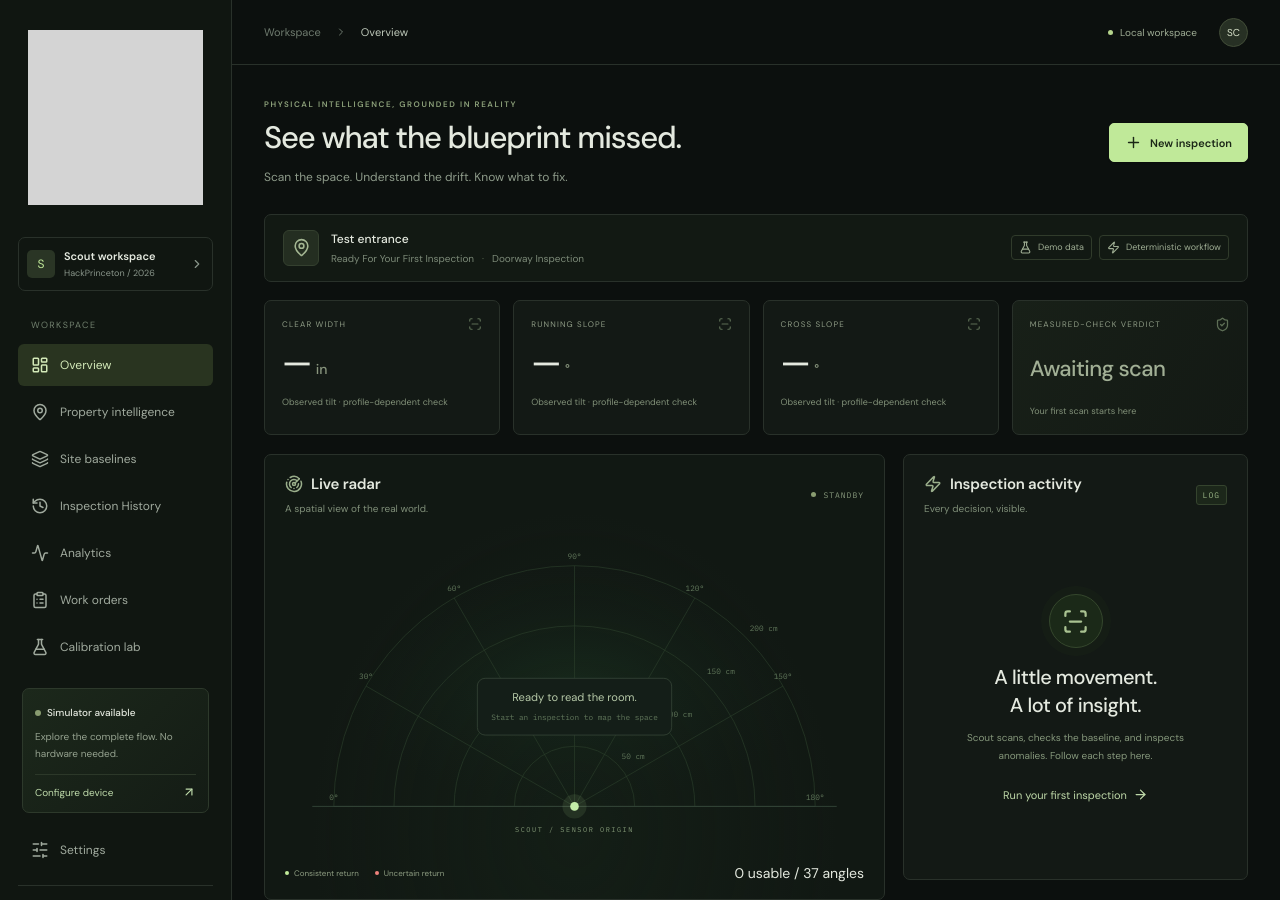
Test case: Inspection workspace › renders an honest empty dashboard and opens a configured scan
This screenshot has width=1280, height=900.
Expected: the heading "See what the blueprint missed." is shown, [264,119,681,158]
Expected: the text "Awaiting scan" is shown, [1030,354,1165,383]
Click the button "New inspection" at (1179, 143), box [1109,124,1248,162]
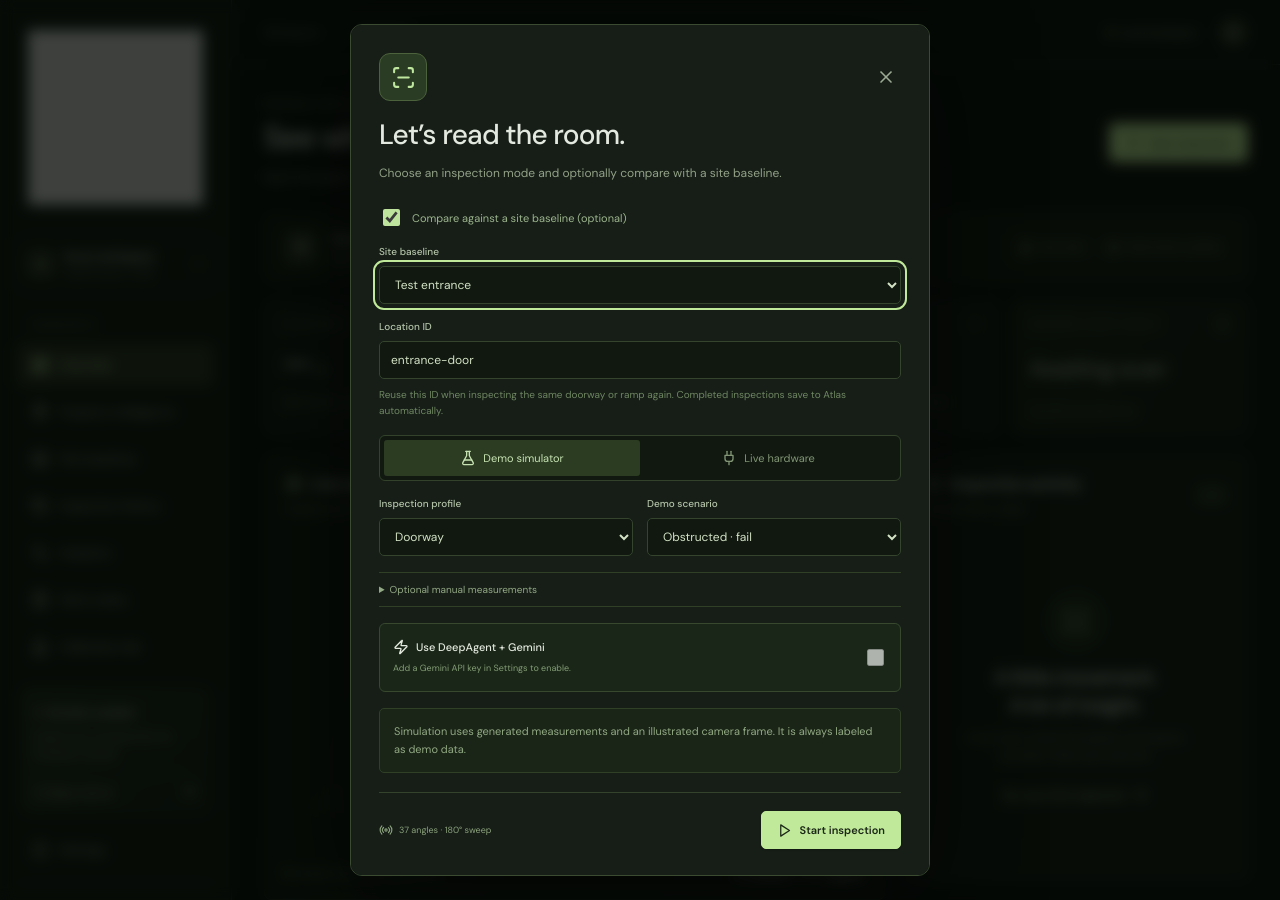
Expected: the checkbox labelled "Use DeepAgent" is disabled, [867,649,884,666]
Select "Ramp" in the dropdown labelled "Inspection profile" at (506, 537), box [379,518,633,556]
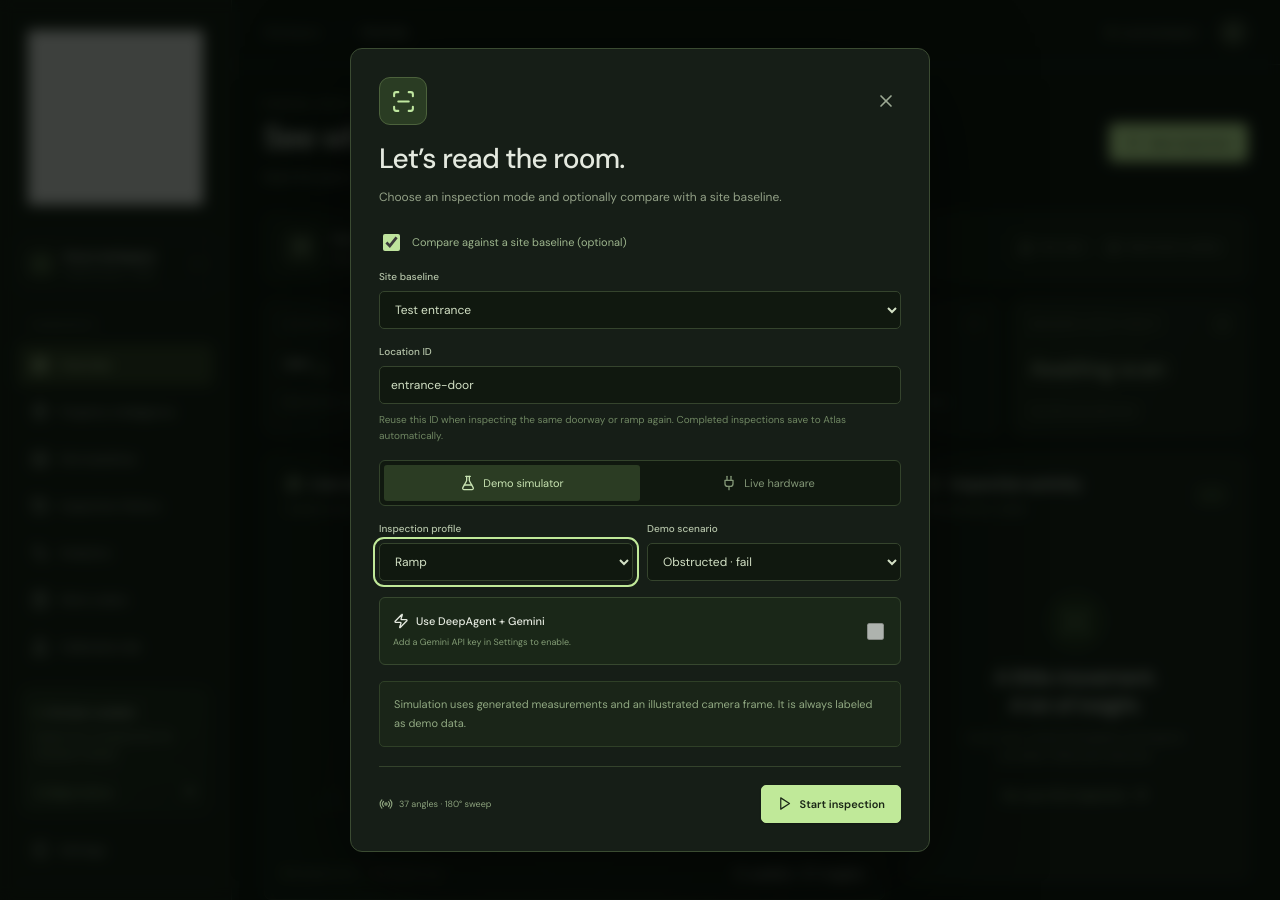
Click the button "Start inspection" at (831, 804), box [761,785,901,823]
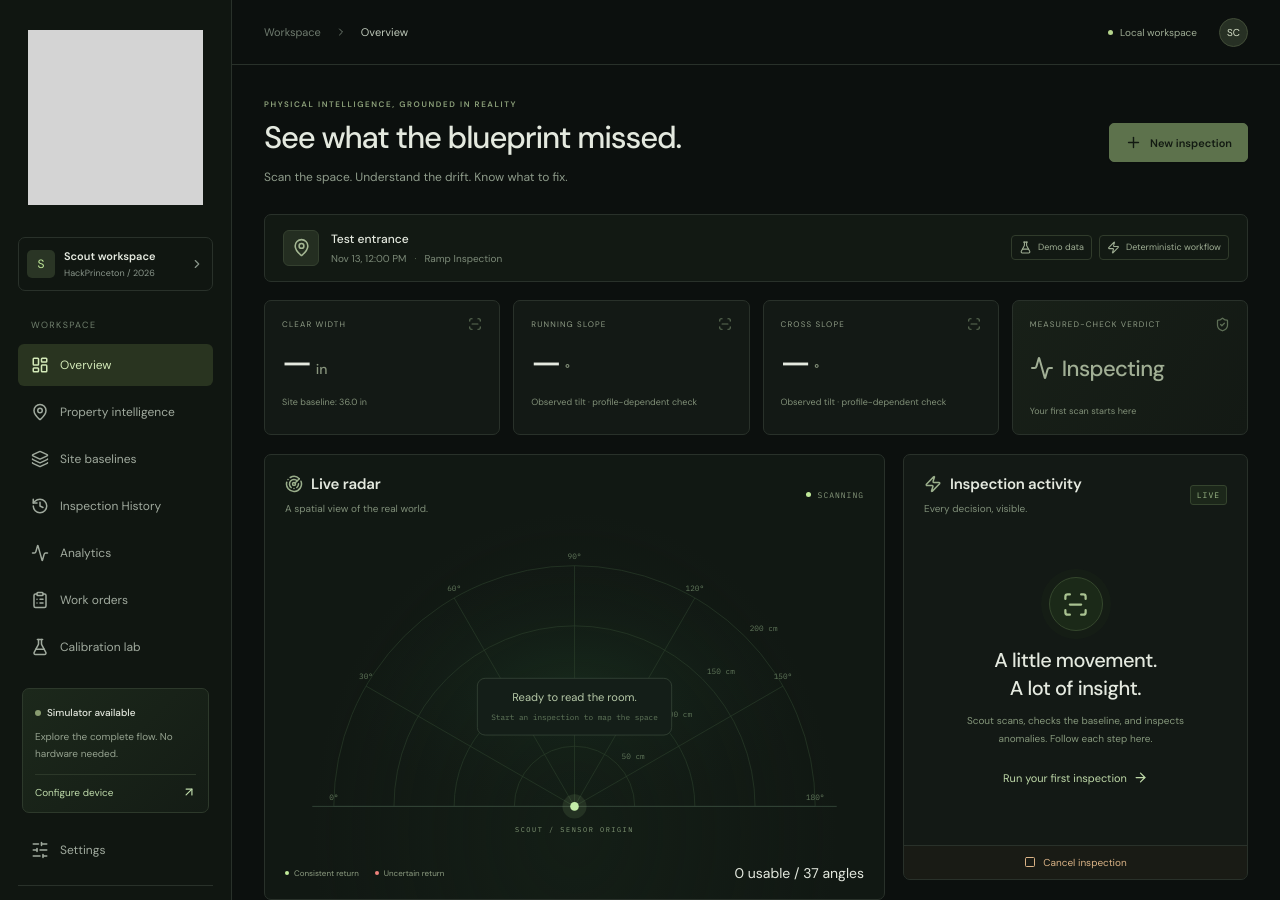
Expected: the button "Cancel inspection" is shown, [904,845,1247,879]
